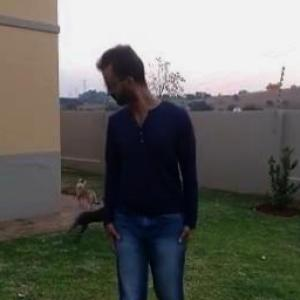follow: (95, 22, 198, 299)
